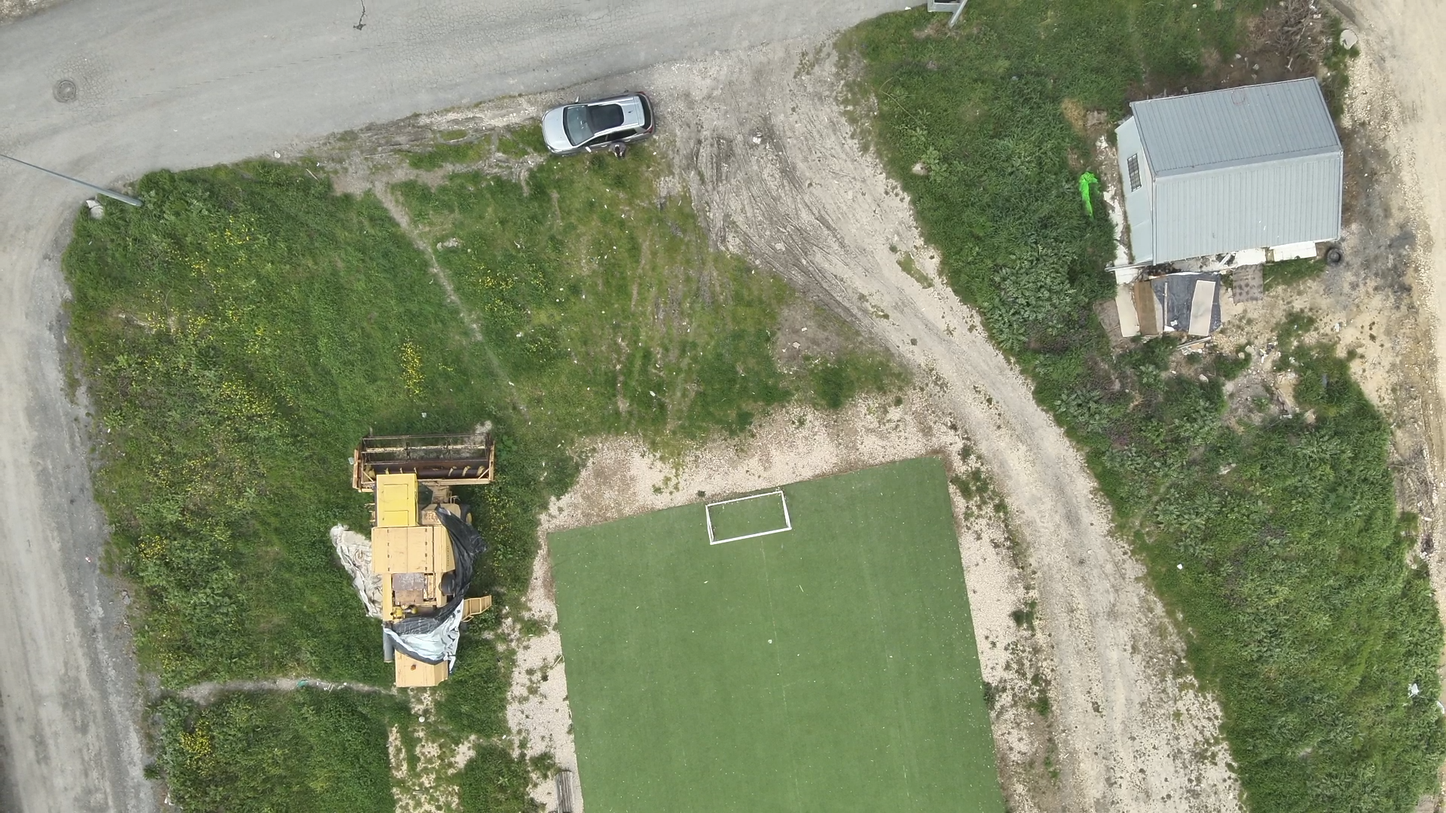person: (608, 140, 630, 160)
vehicle: (354, 435, 495, 690), (539, 89, 656, 155)
